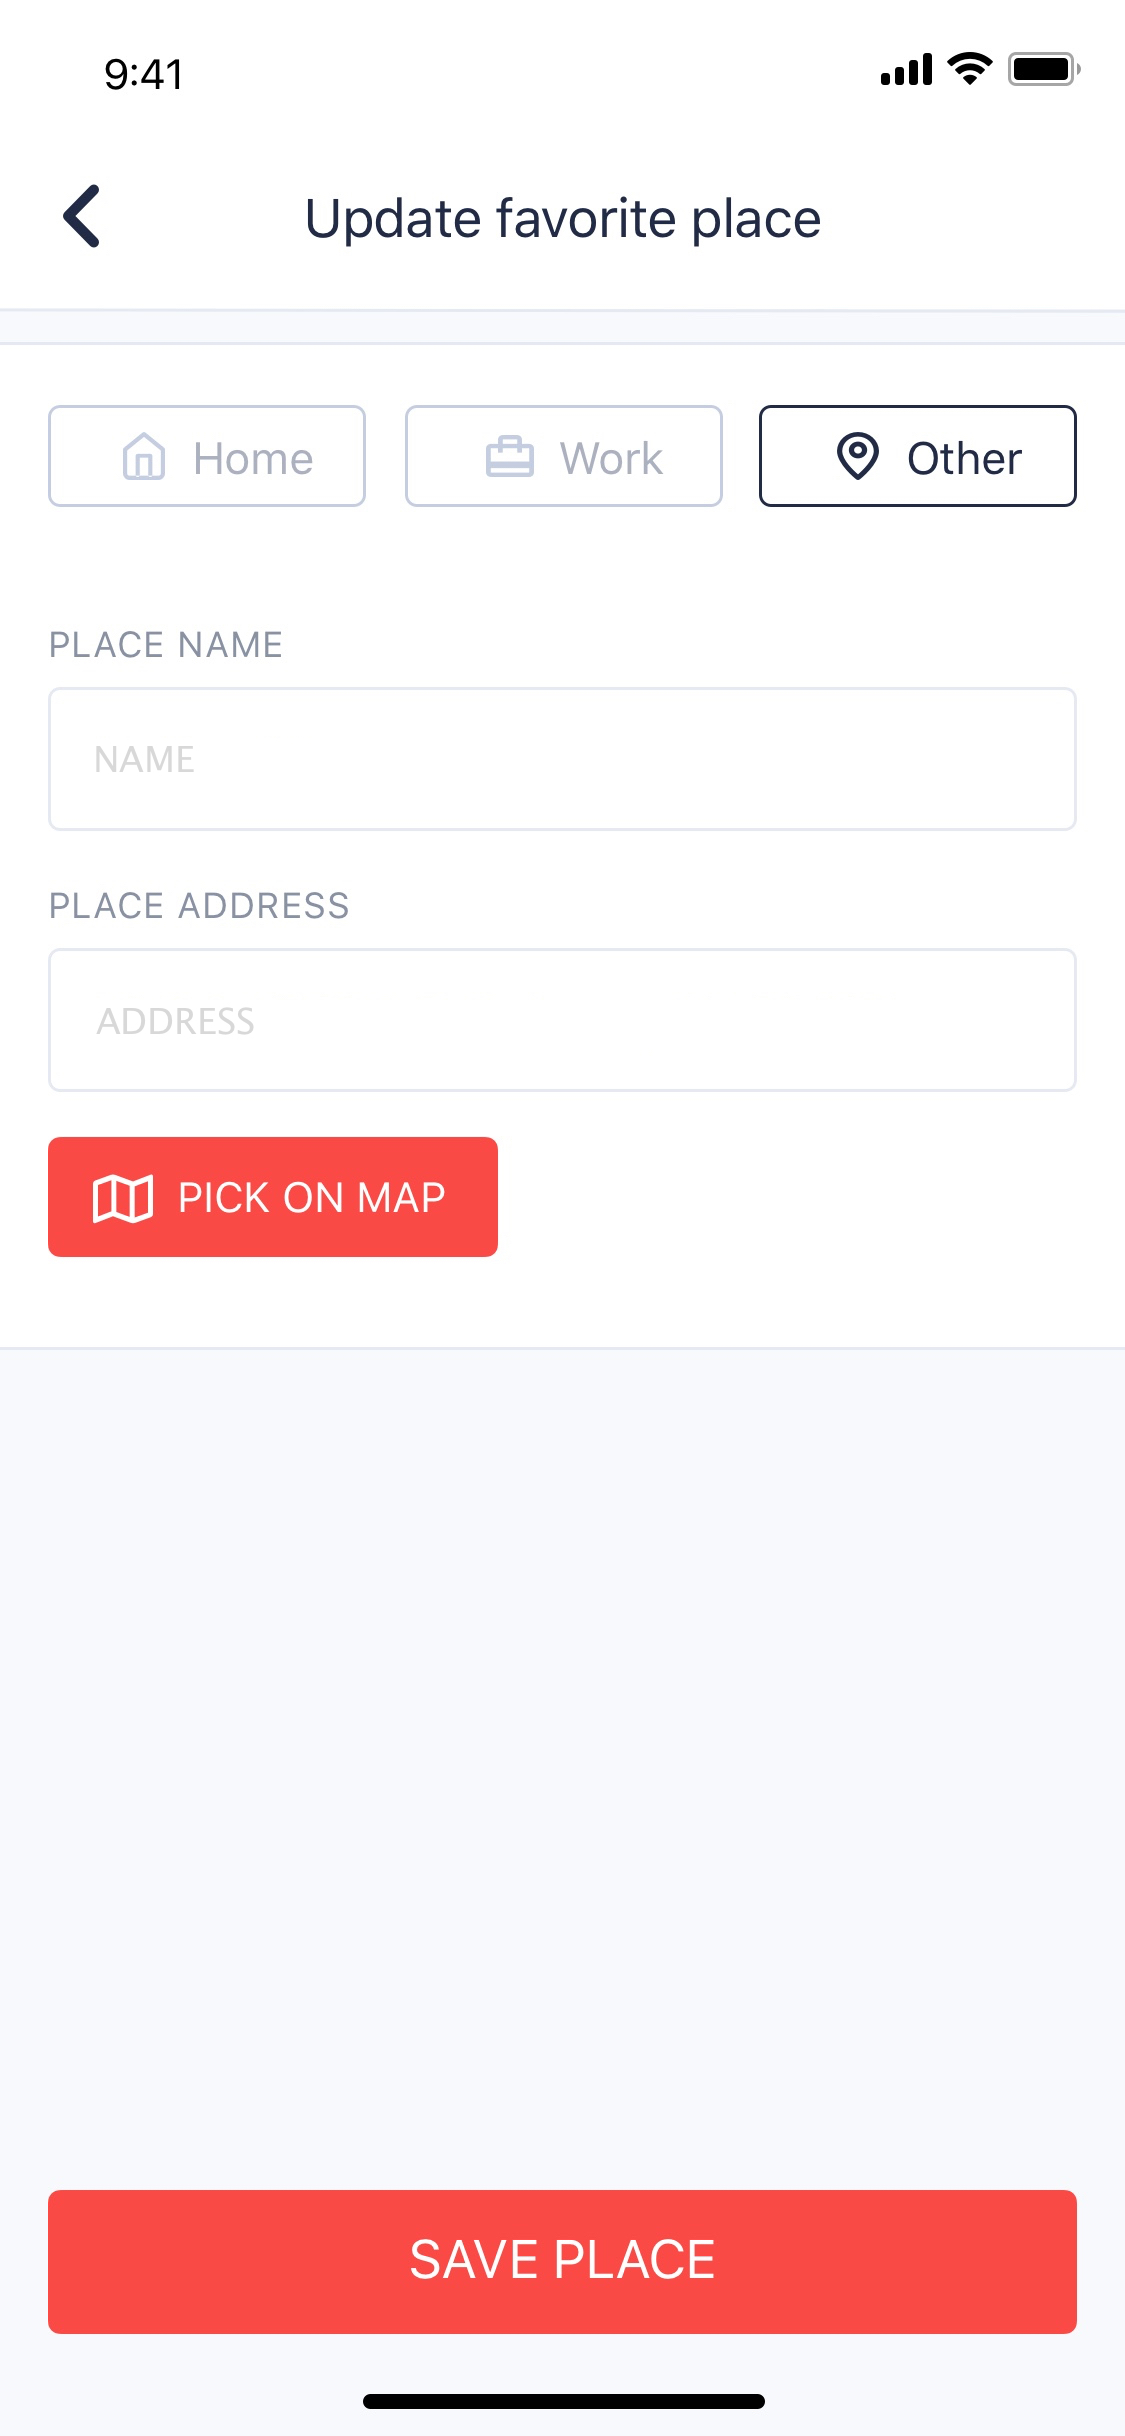EditText: (48, 687, 1078, 833), (48, 948, 1078, 1094)
Icon: (64, 183, 101, 250)
Text: (308, 197, 820, 249), (51, 892, 350, 920), (51, 631, 283, 659), (96, 1007, 255, 1036), (96, 746, 196, 775)
TextButton: (48, 2189, 1078, 2335), (48, 1137, 499, 1258), (758, 405, 1078, 510), (406, 405, 724, 508), (50, 405, 367, 508)
UpperTaskBar: (106, 51, 1081, 92)
